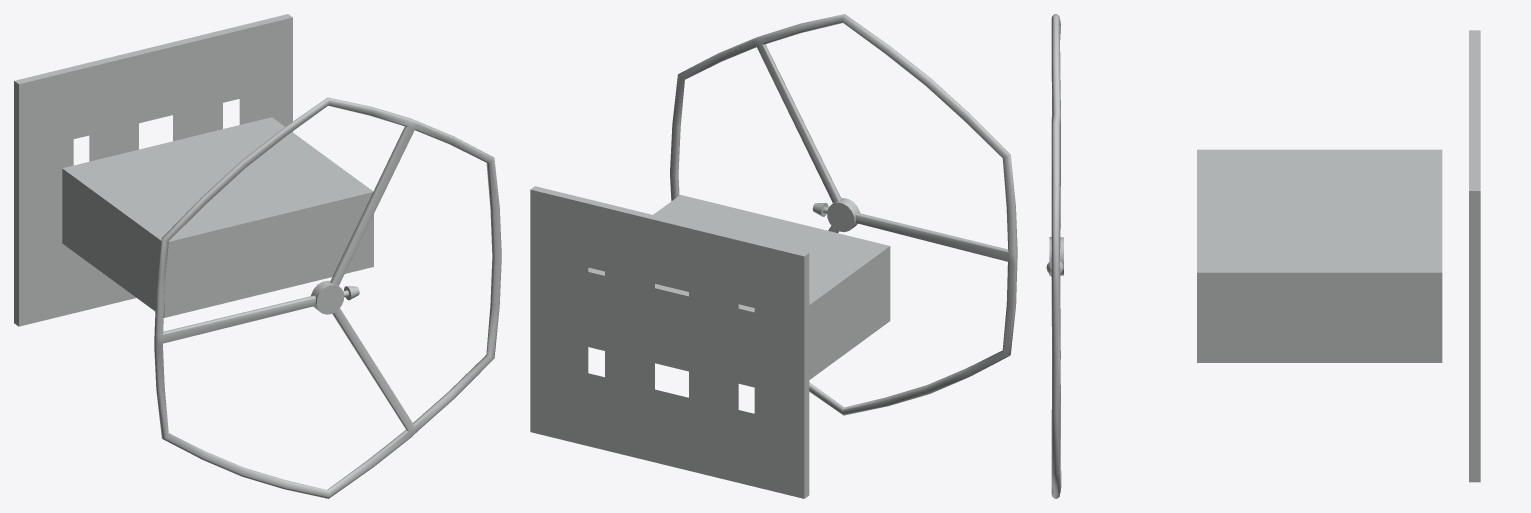
Rendered from MeshDeskLamp_2_0_GeomSubset_1.obj.
3 views of the same model, side by side, from view 1: azimuth 30°, elevation 25°; view 2: azimuth 150°, elevation 25°; view 3: azimuth 270°, elevation 25° (orthographic). The views are drawn at different scales.
Visible parts, largest first — view 1: MeshDeskLamp_2_0_GeomSubset_1; view 2: MeshDeskLamp_2_0_GeomSubset_1; view 3: MeshDeskLamp_2_0_GeomSubset_1.
Part boxes in pixels (<box>): MeshDeskLamp_2_0_GeomSubset_1: <box>14,14,501,498</box>; MeshDeskLamp_2_0_GeomSubset_1: <box>530,14,1017,498</box>; MeshDeskLamp_2_0_GeomSubset_1: <box>1046,14,1480,498</box>.
Size of the model in its own units: 0.2505 by 0.277 by 0.2448.
1 material, 1 textured.
